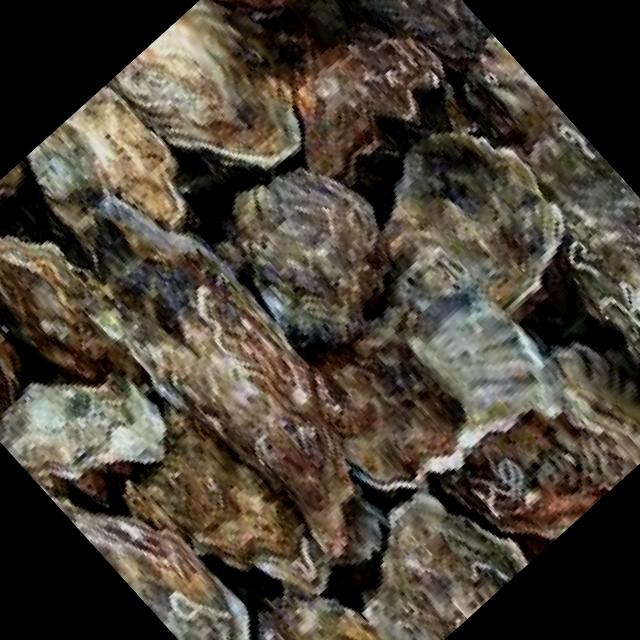Oyster-Closed: (84, 186, 352, 418), (312, 249, 548, 486), (144, 315, 356, 505), (29, 476, 262, 640), (1, 81, 206, 253), (109, 0, 302, 175), (372, 136, 572, 304), (0, 231, 170, 411), (357, 486, 555, 640), (0, 357, 186, 511), (233, 168, 389, 349), (298, 32, 441, 225), (130, 417, 316, 561), (518, 122, 640, 282), (347, 0, 523, 72), (448, 34, 558, 142), (246, 592, 417, 640)
